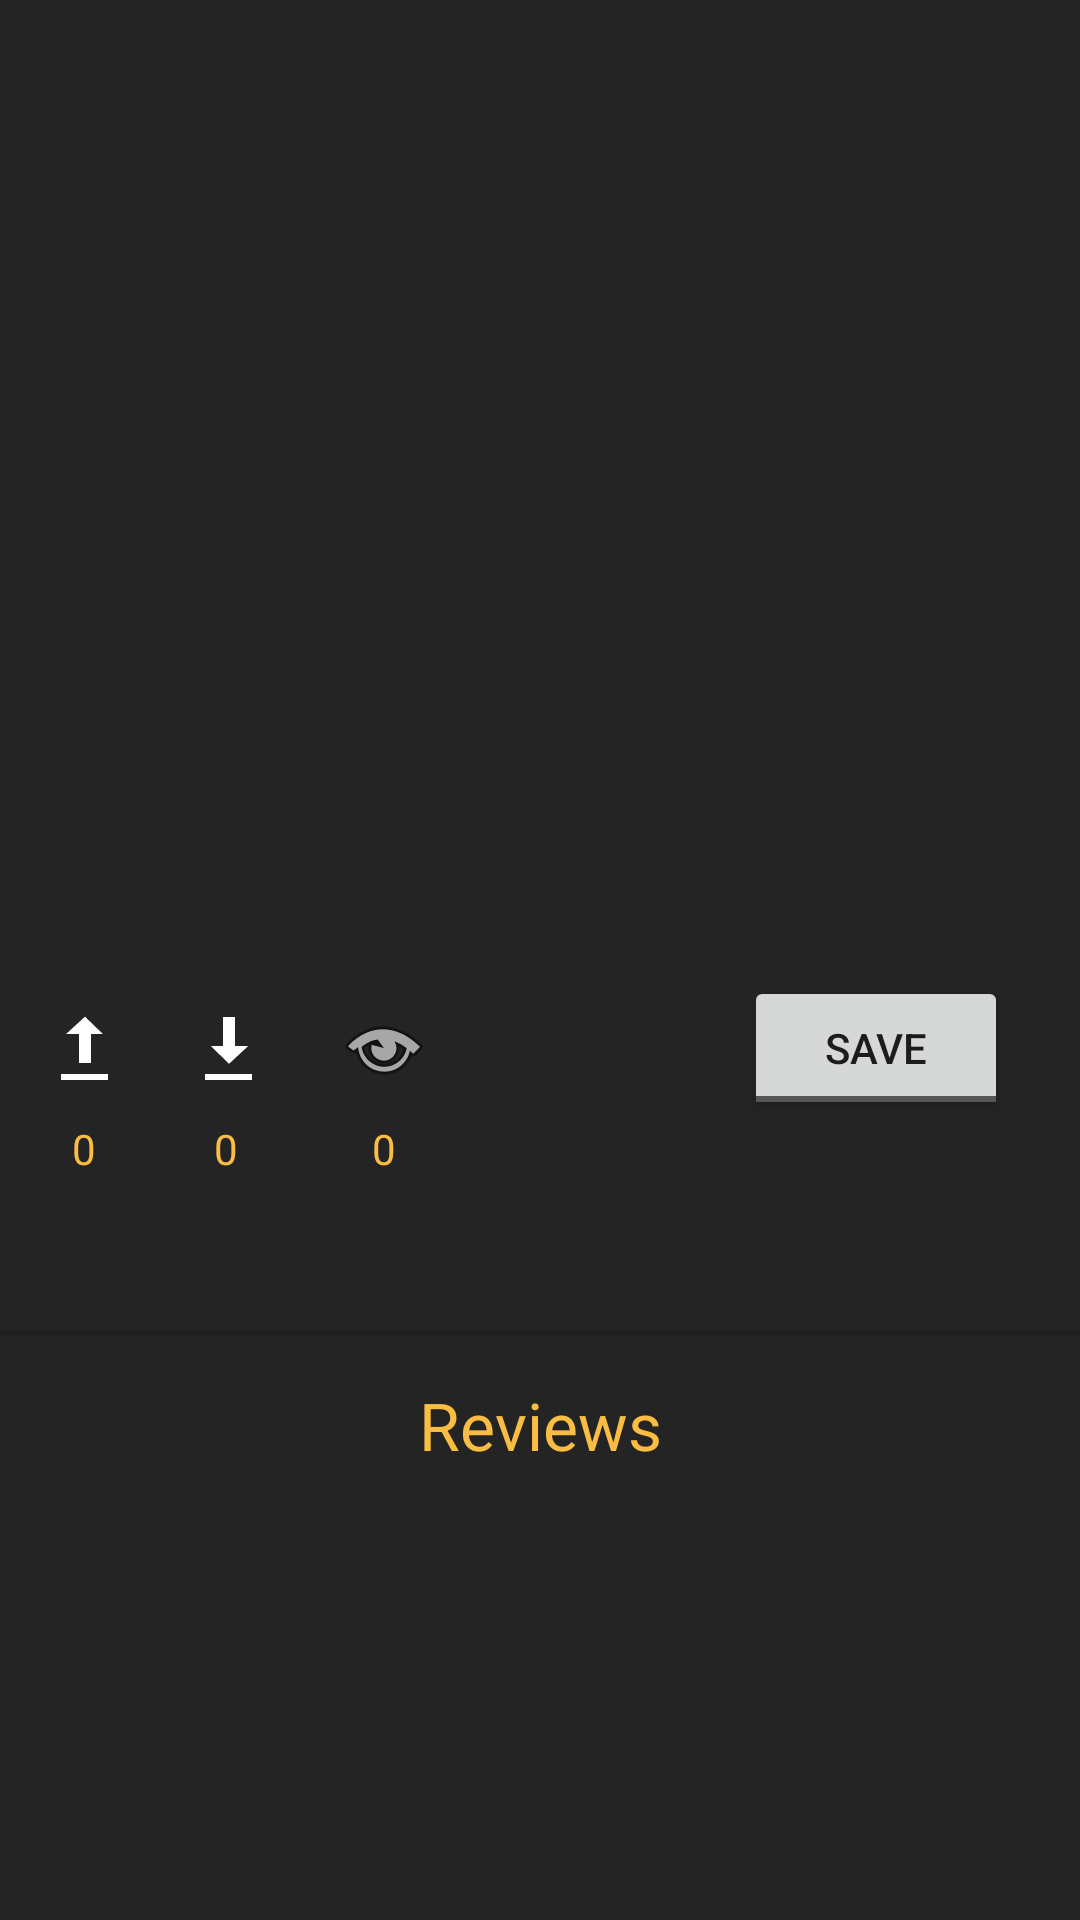

Where icons sit on this 1080×1920 app screen, as (x1, y1, x2, y2):
download: (205, 1017, 252, 1080)
upload: (61, 1017, 108, 1080)
view: (348, 1029, 420, 1072)
